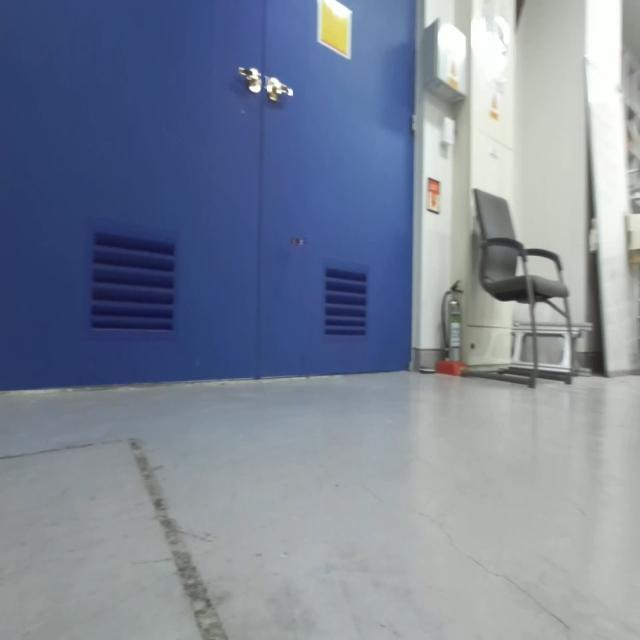crazyflie: (286, 227, 308, 255)
